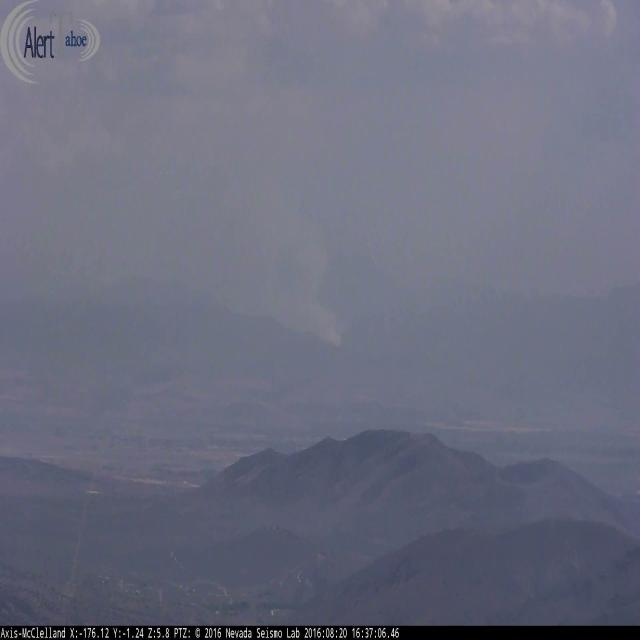smoke: (114, 151, 344, 347)
